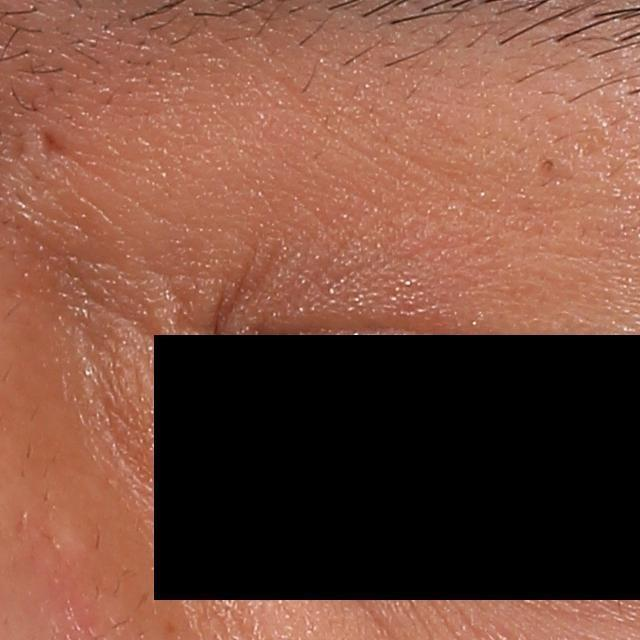atrophic_scar: (30, 124, 70, 154)
hypertrophic_scar: (34, 488, 109, 573)
nevus: (538, 155, 559, 180)
